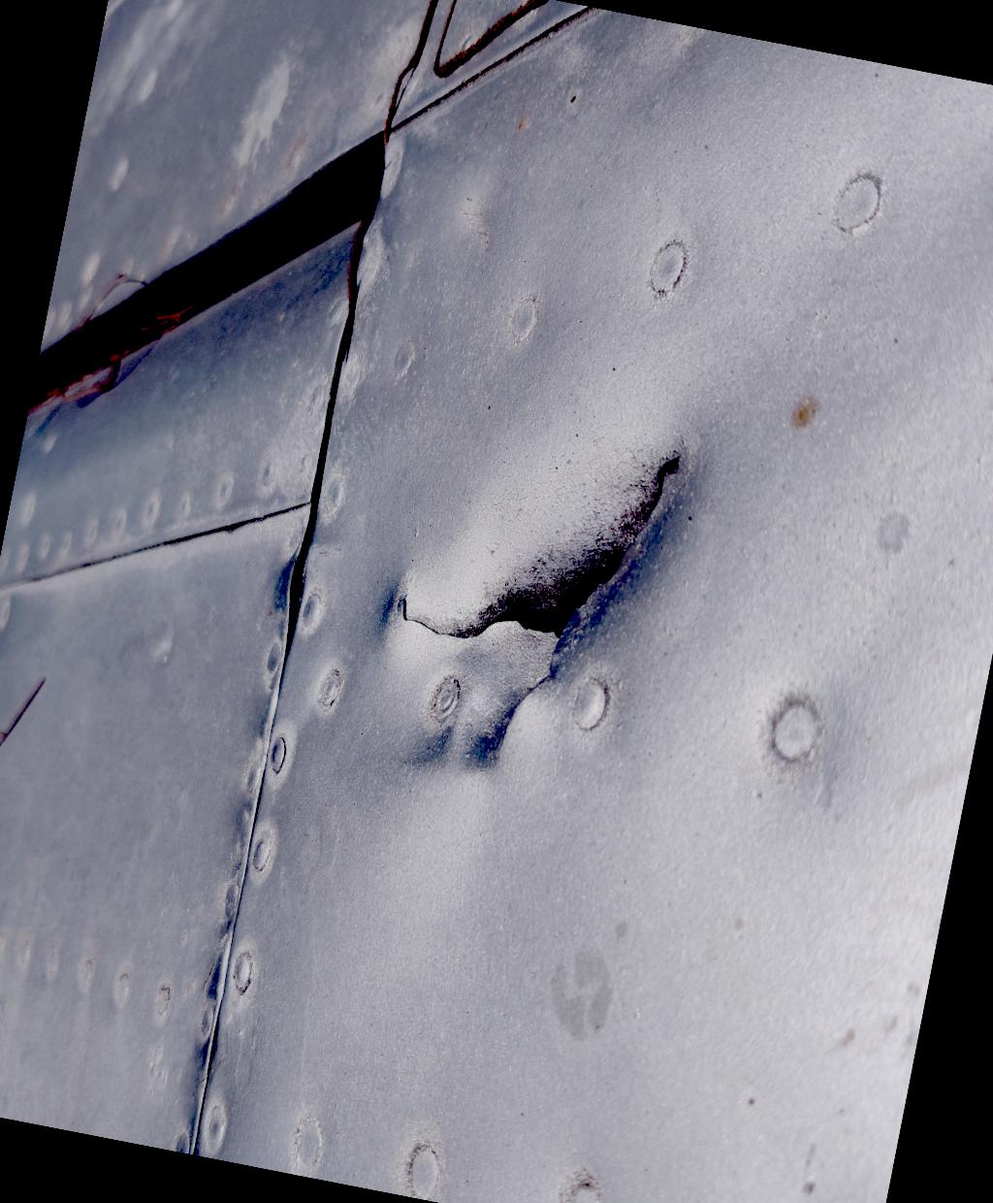crack: (233, 318, 709, 811)
